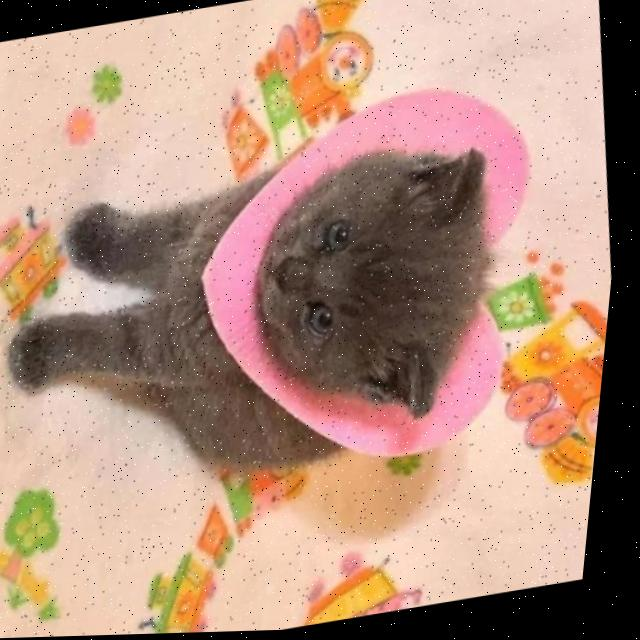Cats: (0, 76, 577, 590)
